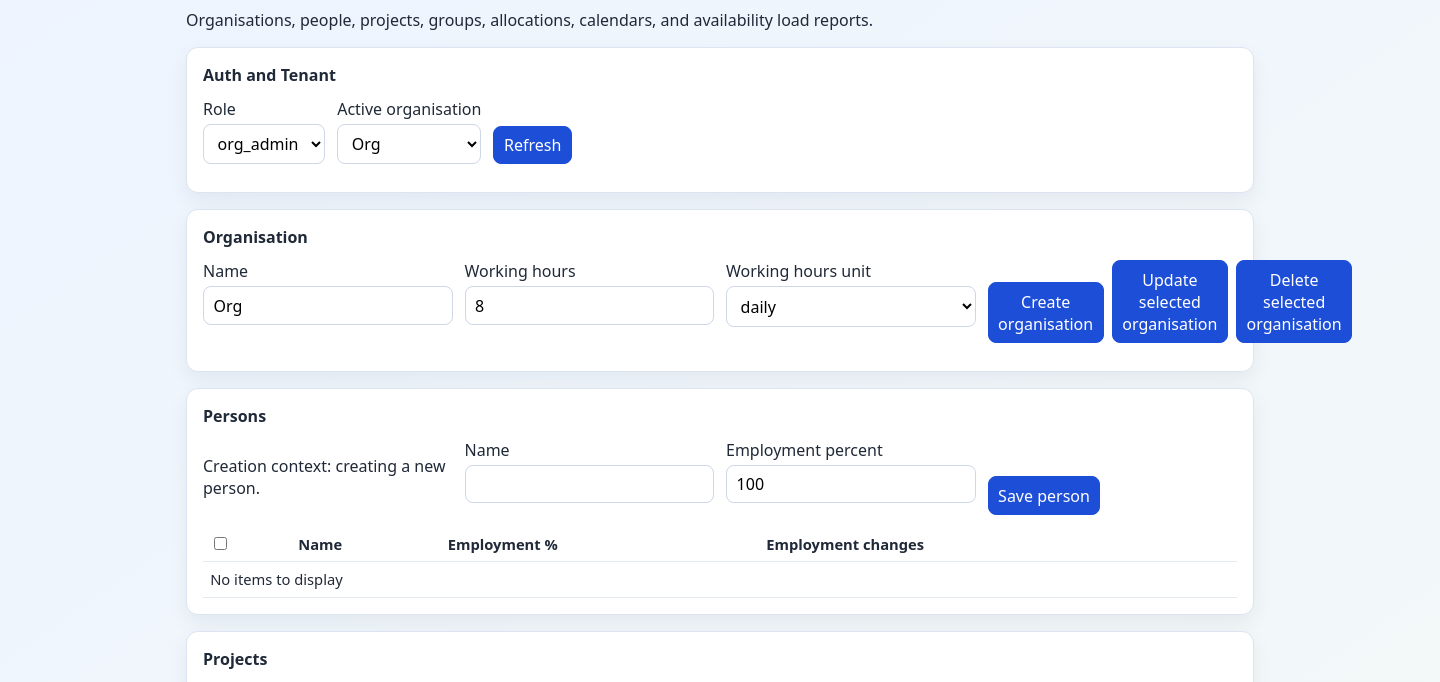
Scenario: App focused behaviors › handles non-json no-content error responses
Click the button "Delete selected organisation".
click(1294, 302)  # box [1236,260,1352,343]
(page scrolled)
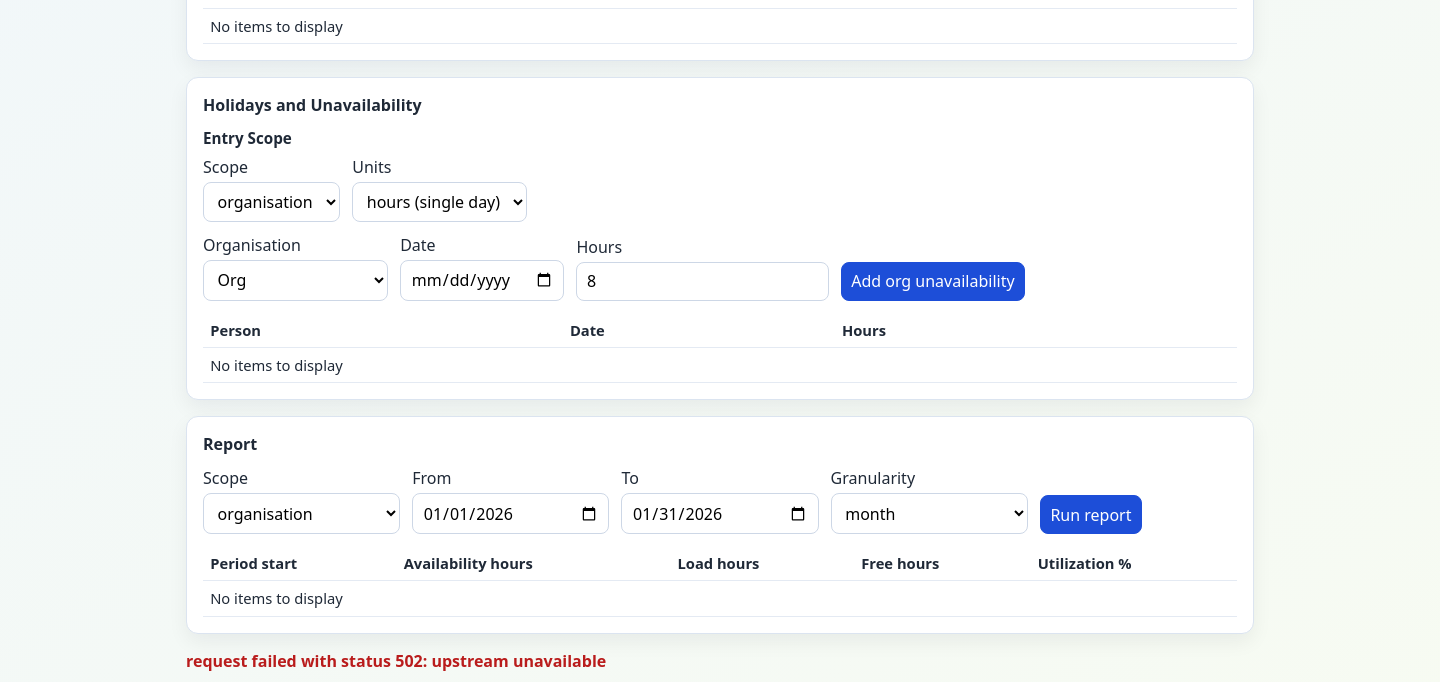
Result: the message reads "request failed with status 502: upstream unavailable" at [186,650,606,672]
